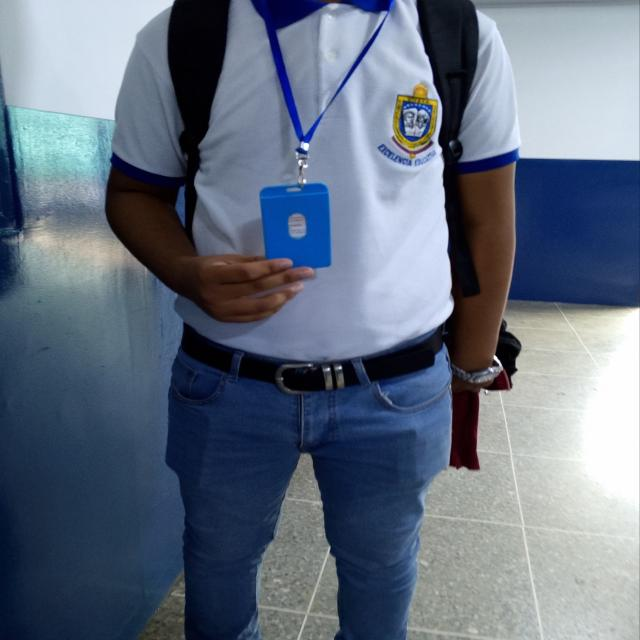carnet: (258, 183, 332, 271)
uniforme_superior: (109, 0, 518, 362)
